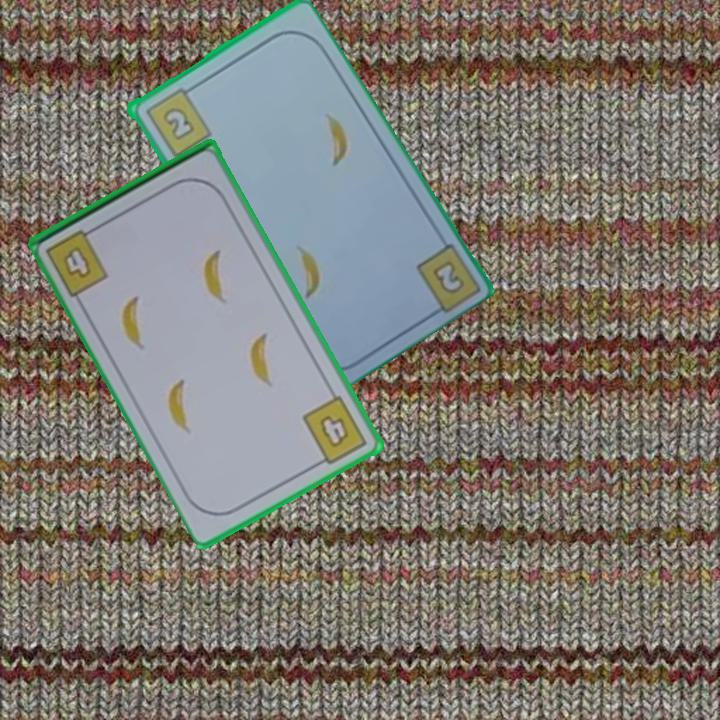2b: (141, 81, 214, 160), (428, 256, 467, 297)
4b: (298, 391, 371, 470), (42, 222, 112, 300)
